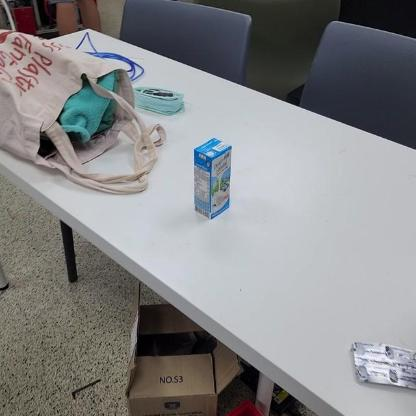Others: (186, 134, 240, 224)
